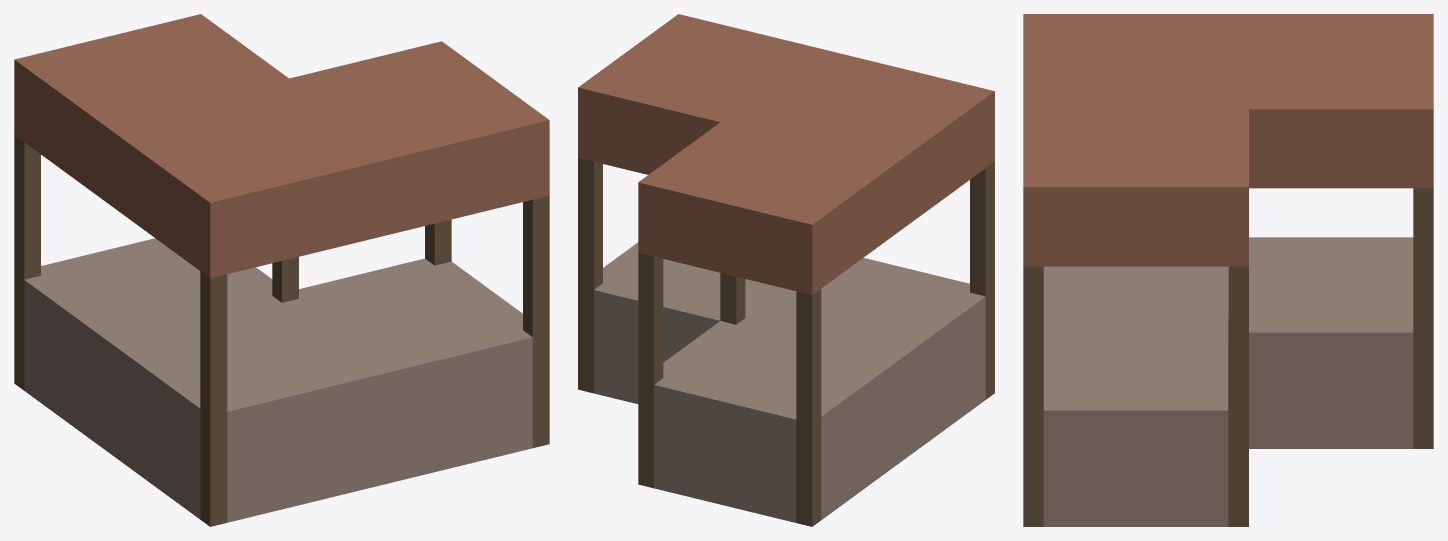
Rendered from Market_Stand_Corner.fbx.
The picture shows the model from 3 angles, left to right: view 1: azimuth 30°, elevation 25°; view 2: azimuth 150°, elevation 25°; view 3: azimuth 270°, elevation 25°; orthographic projection. The views are drawn at different scales.
Parts seen in each view (by area): view 1: Market_Stand_Corner; view 2: Market_Stand_Corner; view 3: Market_Stand_Corner.
Boxes of the visible parts, x1=… form: Market_Stand_Corner: x1=14, y1=14, x2=549, y2=526; Market_Stand_Corner: x1=578, y1=14, x2=994, y2=526; Market_Stand_Corner: x1=1023, y1=14, x2=1433, y2=526.
Size of the model in its own units: 400 by 365 by 400.
Materials: 1 (1 with a texture image).
